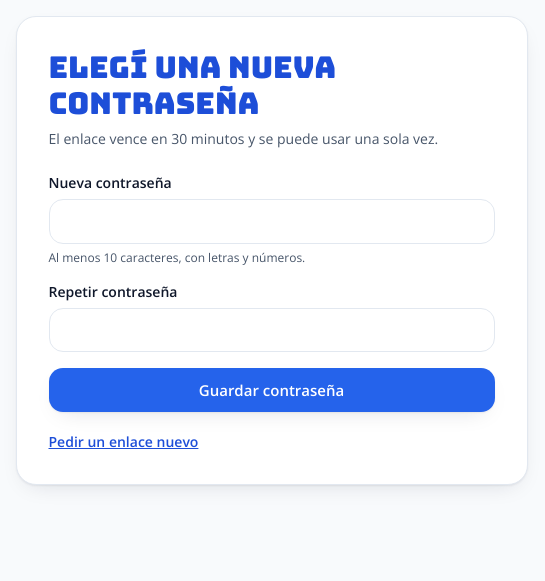
Scenario: ResetPasswordPage › translates an invalid or expired link to Spanish
Type "NewPassword123" into the password field labelled "Nueva contraseña" at (272, 221), box top-left (48, 199), bottom-right (494, 244)
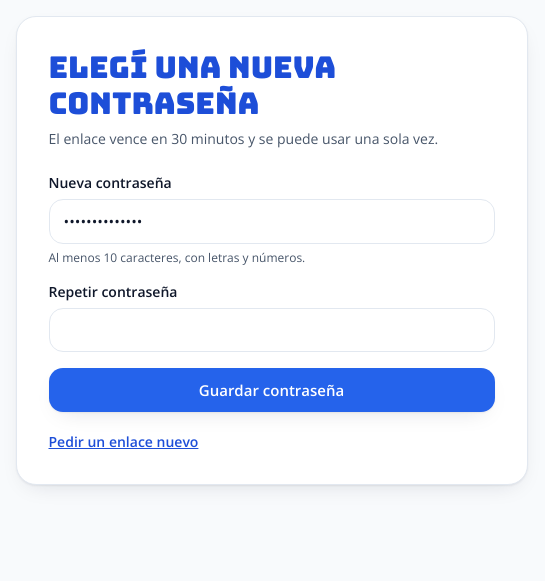
Type "NewPassword123" into the password field labelled "Repetir contraseña" at (272, 330), box top-left (48, 308), bottom-right (494, 352)
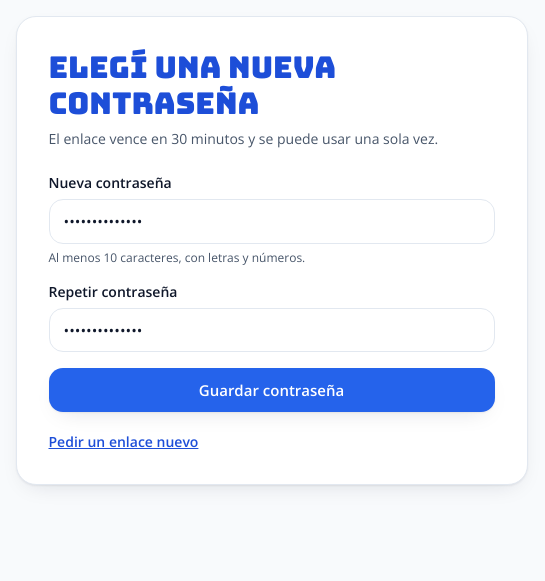
Click the button "Guardar contraseña" at (272, 390), box top-left (48, 368), bottom-right (494, 412)
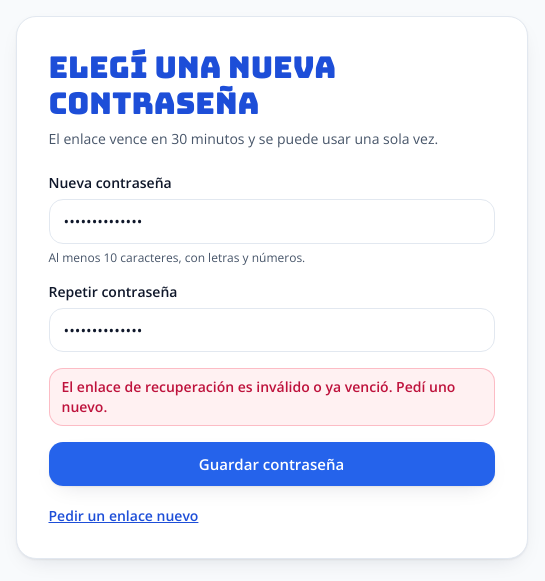
Expected: the text "El enlace de recuperación es inválido o ya venció. Pedí uno nuevo." is shown, top-left (48, 368), bottom-right (494, 426)
